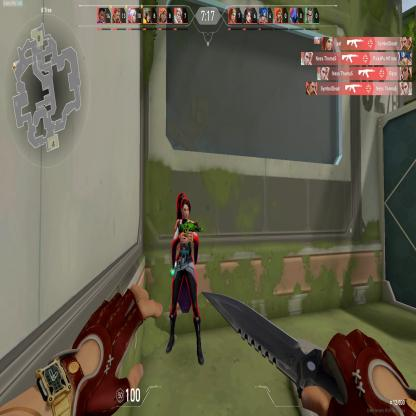enemy: (166, 188, 206, 368)
